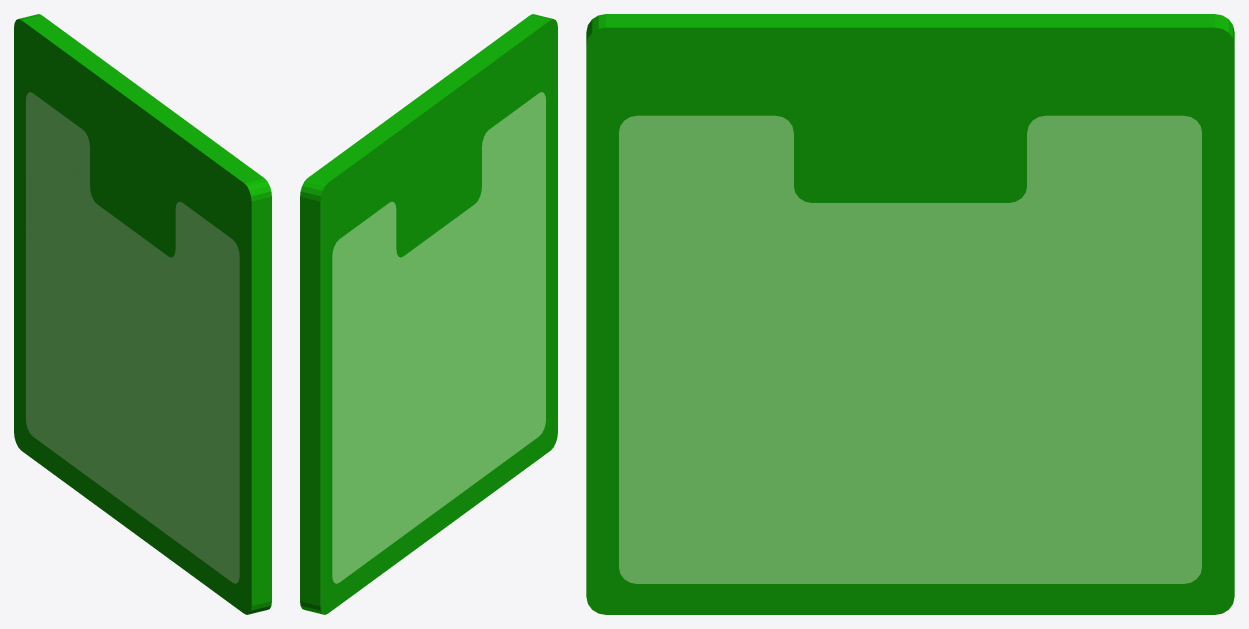
Rendered from green_year.fbx.
3 views of the same model, side by side, from view 1: azimuth 30°, elevation 25°; view 2: azimuth 150°, elevation 25°; view 3: azimuth 270°, elevation 25° (orthographic). The views are drawn at different scales.
Visible parts, largest first — view 1: green_year; view 2: green_year; view 3: green_year.
Boxes of the visible parts, x1=… form: green_year: x1=14, y1=14, x2=271, y2=614; green_year: x1=300, y1=14, x2=557, y2=614; green_year: x1=586, y1=14, x2=1234, y2=614.
Size of the model in its own units: 9.92 by 200 by 200.
